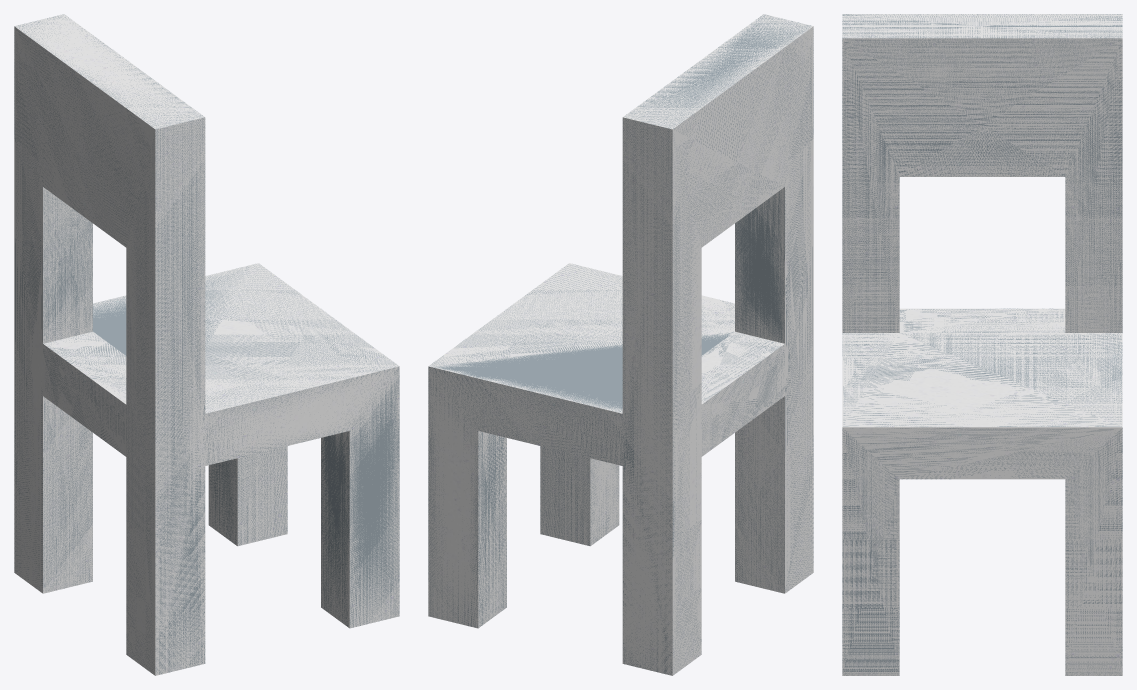
File: chair.fbx
3 renders of one model, left to right at view 1: azimuth 30°, elevation 25°; view 2: azimuth 150°, elevation 25°; view 3: azimuth 270°, elevation 25°, orthographic.
Visible parts, largest first — view 1: chair1; view 2: chair1; view 3: chair1.
Boxes of the visible parts, left/top/right/bottom form: chair1: left=14, top=14, right=399, bottom=675; chair1: left=428, top=14, right=813, bottom=675; chair1: left=842, top=14, right=1122, bottom=675.
Bounding box in the file's own units: 0.44 × 0.94 × 0.44.
